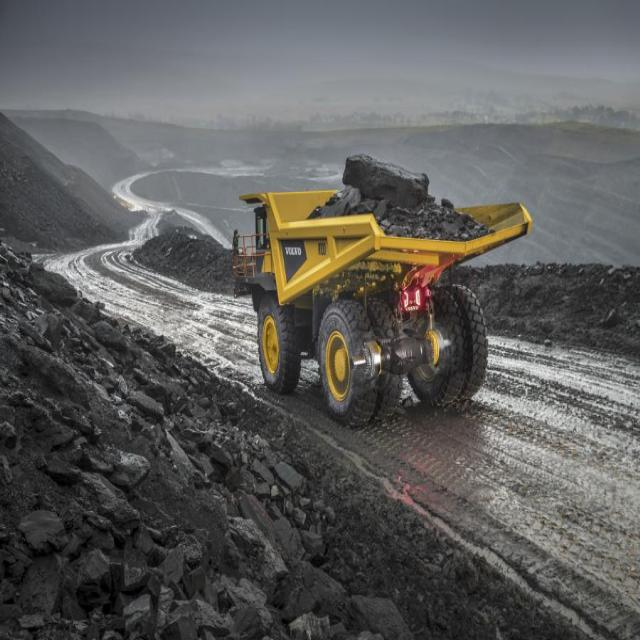dump_truck: (228, 145, 536, 435)
